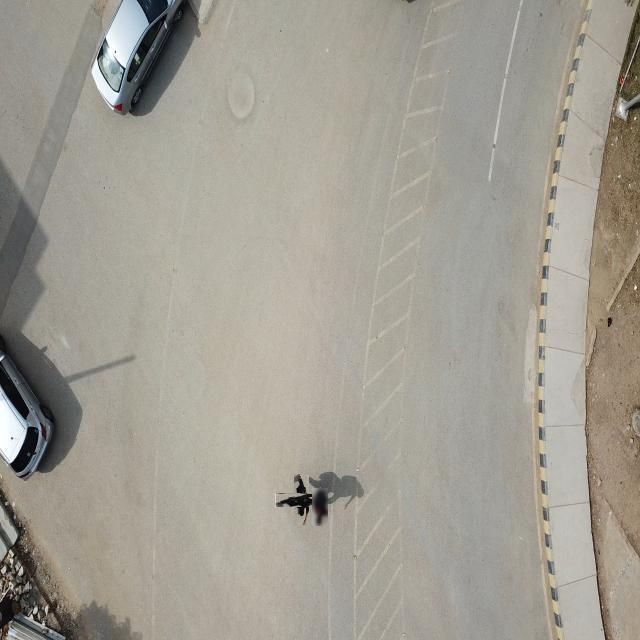Manusia: (285, 483, 319, 518), (312, 488, 329, 527)
